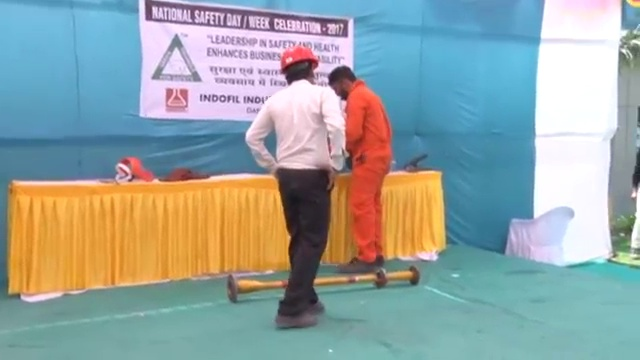helmet: (277, 45, 321, 73)
helmet_off: (328, 65, 360, 101)
helmet_on: (276, 45, 321, 89)
person: (244, 45, 345, 328), (328, 63, 393, 271)
